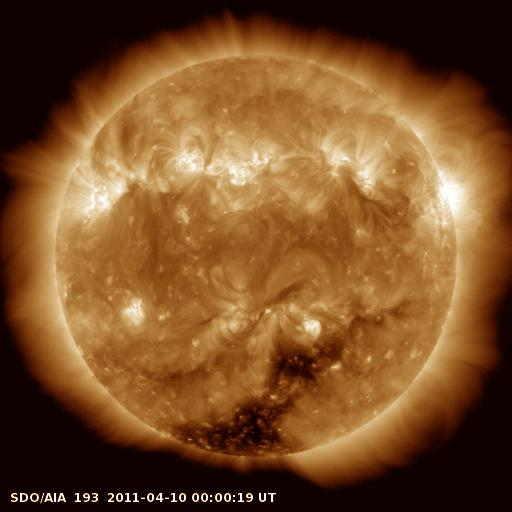coronal_hole: (162, 341, 346, 459)
